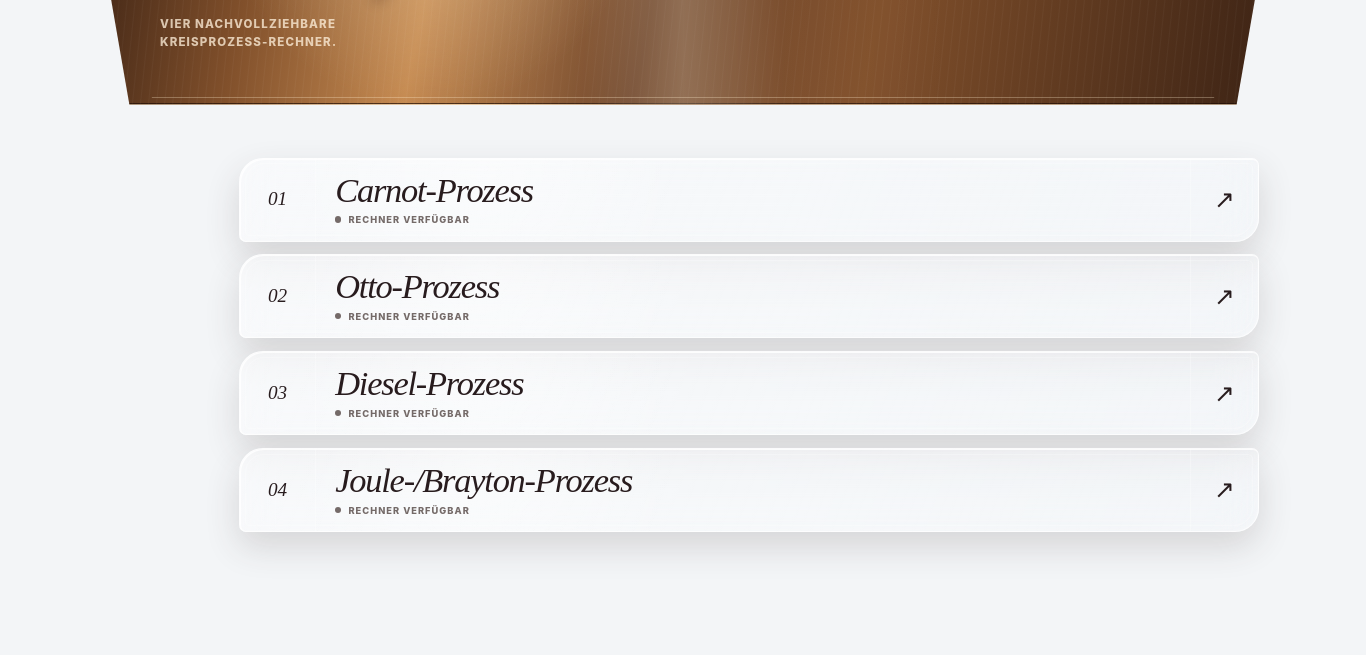
ThermodynamicsExplorer › keeps Reduced Motion static and interactive while authentic detail stays functional
(page scrolled)
Click the button "04 Joule-/Brayton-Prozess Rechner verfügbar ↗": coordinates (278, 490) [239,448,1259,532]
(page scrolled)
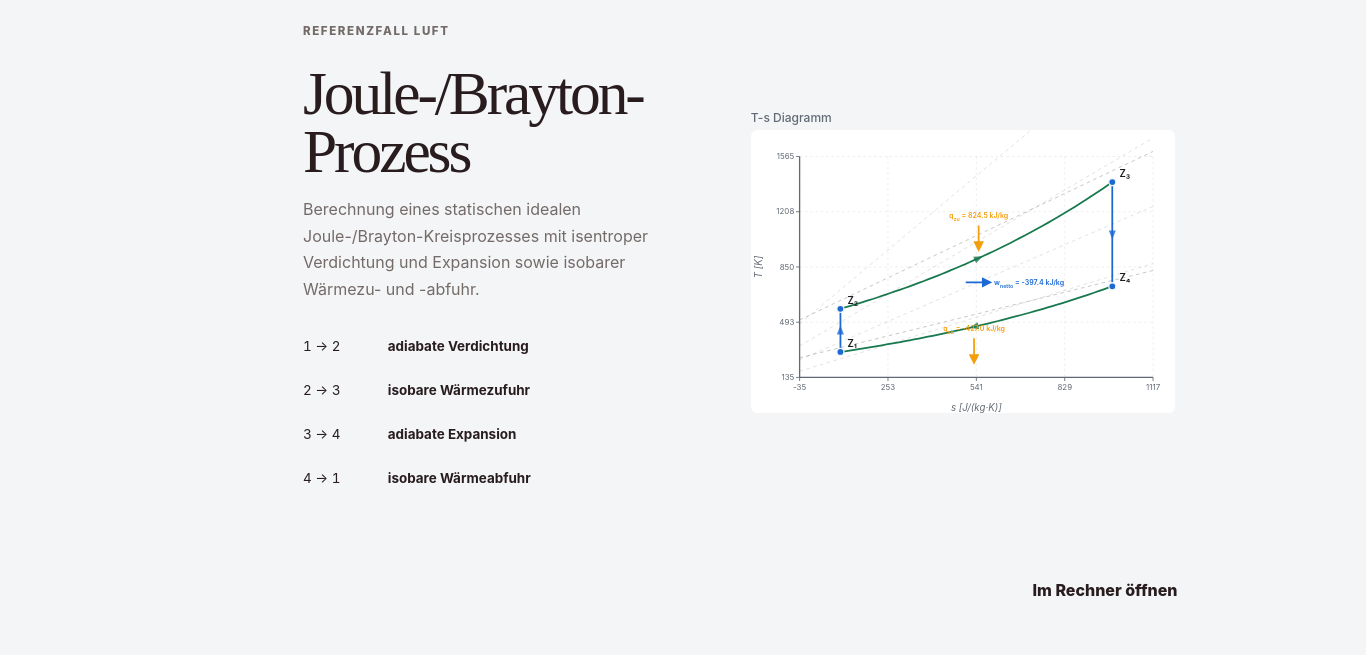
Now the icon is shown, box [751,130,1175,413]
